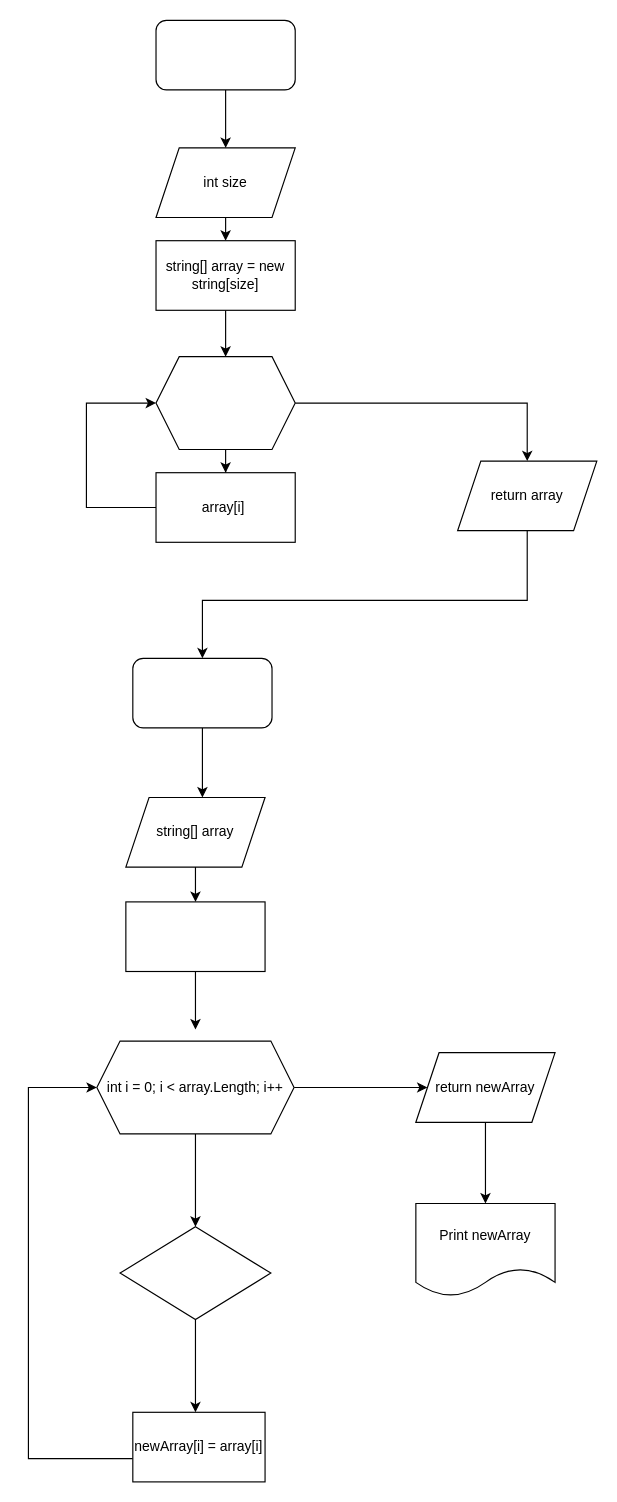
This 617x1502 diagram has some shape labels left out. Each missing label, with the centre of its shape:
"array[i].Length <= 3" goes at [195,1273].
"int i = 0; i < size; i++" goes at [225,402].
"NewArray" goes at [202,692].
"string[] GetArray" goes at [225,54].
"string[] newArray = new string [array.Length]" goes at [195,936].
